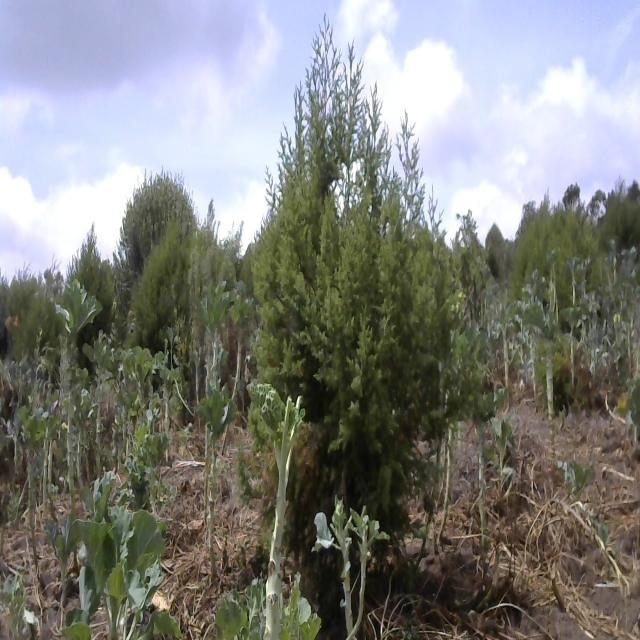cedrus: (252, 24, 455, 548), (132, 222, 191, 353), (66, 224, 115, 346), (556, 201, 602, 291), (511, 200, 554, 292)
other: (113, 157, 199, 292)
